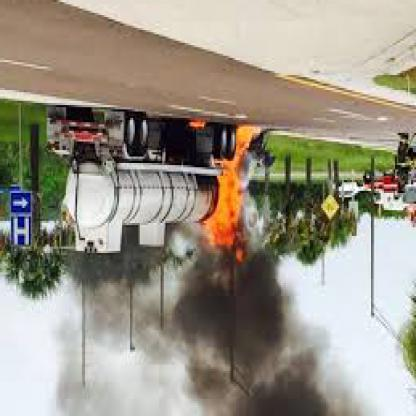Fire: (214, 154, 242, 250)
Smoke: (156, 268, 312, 413)
